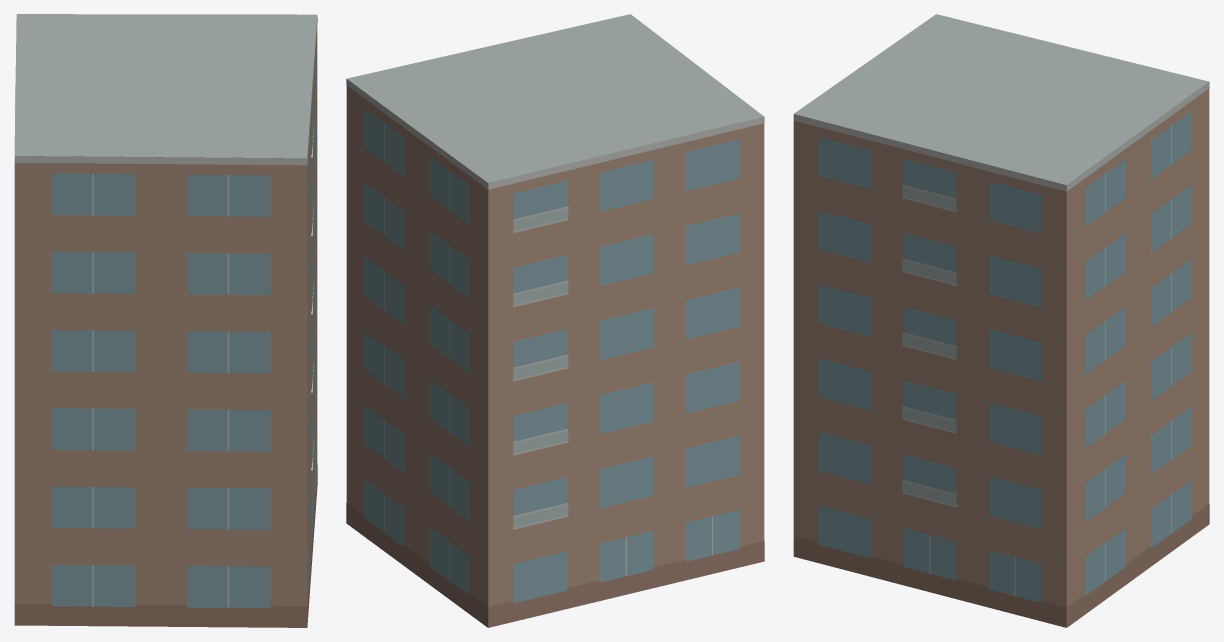
File: survey-upis-32744276.glb
3 renders of one model, left to right at view 1: azimuth 30°, elevation 25°; view 2: azimuth 150°, elevation 25°; view 3: azimuth 270°, elevation 25°, orthographic. The views are drawn at different scales.
Visible parts, largest first — view 1: survey-upis-32744276.tmp; view 2: survey-upis-32744276.tmp; view 3: survey-upis-32744276.tmp.
Part boxes in pixels (x1,y1,x2,y2): survey-upis-32744276.tmp: (14, 14, 317, 627); survey-upis-32744276.tmp: (346, 14, 764, 627); survey-upis-32744276.tmp: (793, 14, 1209, 627).
Bounding box in the file's own units: 13.69 × 16.5 × 14.06.
